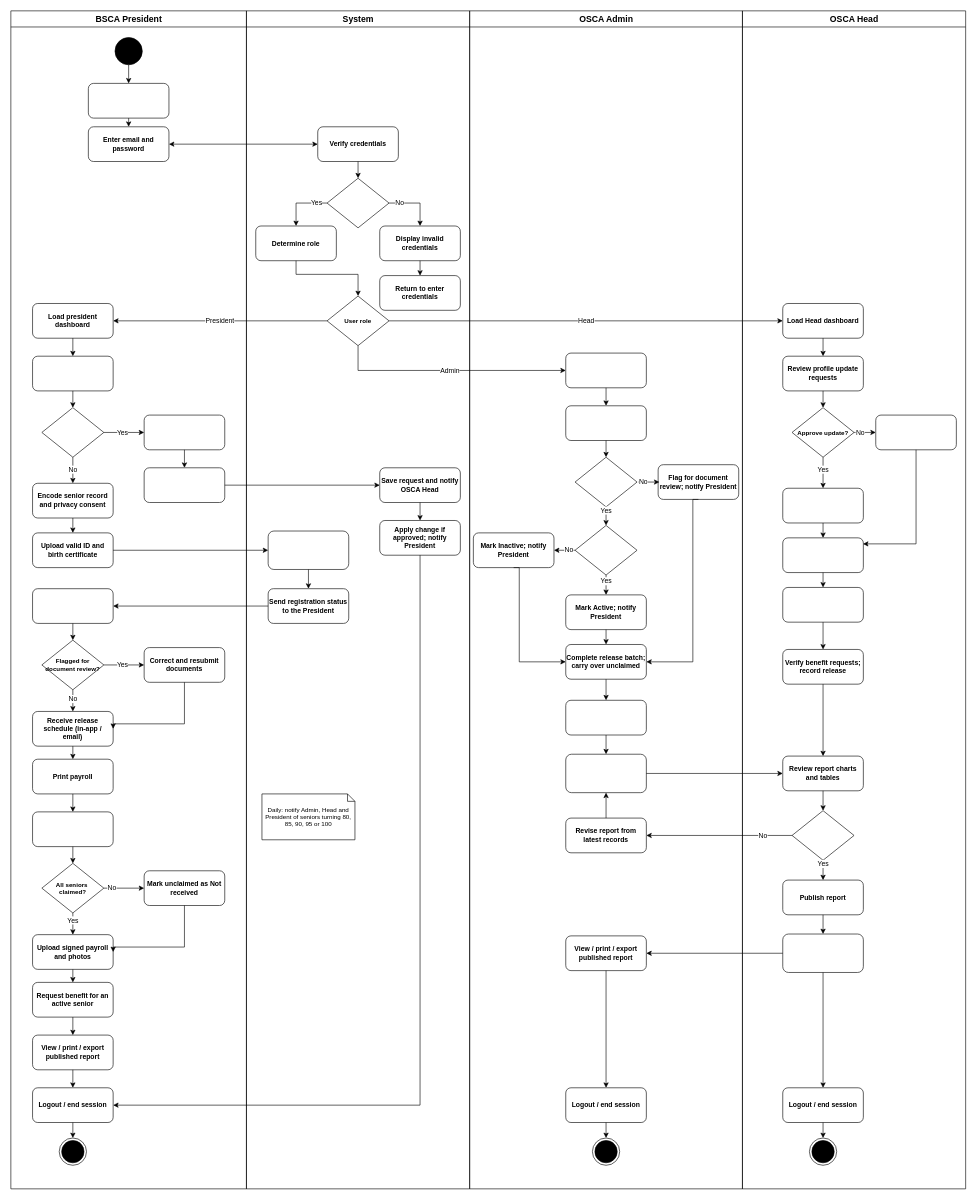
The diagram is 977 pixels wide and 1200 high, and some of its shapes have lost their labels. Each missing label, with the centre of its shape:
Approve report?: (x=822, y=835)
Approve; change is applied: (x=822, y=505)
Check age (60+); save as Pending; notify Admin and Head: (x=308, y=549)
Check registration status: (x=72, y=605)
Compute figures, save snapshot, notify Head: (x=605, y=773)
Credentials valid?: (x=357, y=203)
Documents complete?: (x=605, y=482)
Eligible (60+)?: (x=605, y=550)
Generate report (type, barangay, remarks): (x=605, y=717)
Load Admin dashboard: (x=605, y=370)
Lock published copy; notify Admin and President: (x=822, y=952)
Login to system: (x=128, y=100)
Record already exists?: (x=72, y=432)
Record each senior's release status: (x=72, y=829)
Reject with remarks: (x=915, y=432)
Request profile update: (x=184, y=432)
Review pending registration and documents: (x=605, y=423)
Schedule benefit release batch: (x=822, y=555)
Search existing record: (x=72, y=373)
Send advisories to President: (x=822, y=604)
Submit update request: (x=184, y=485)
